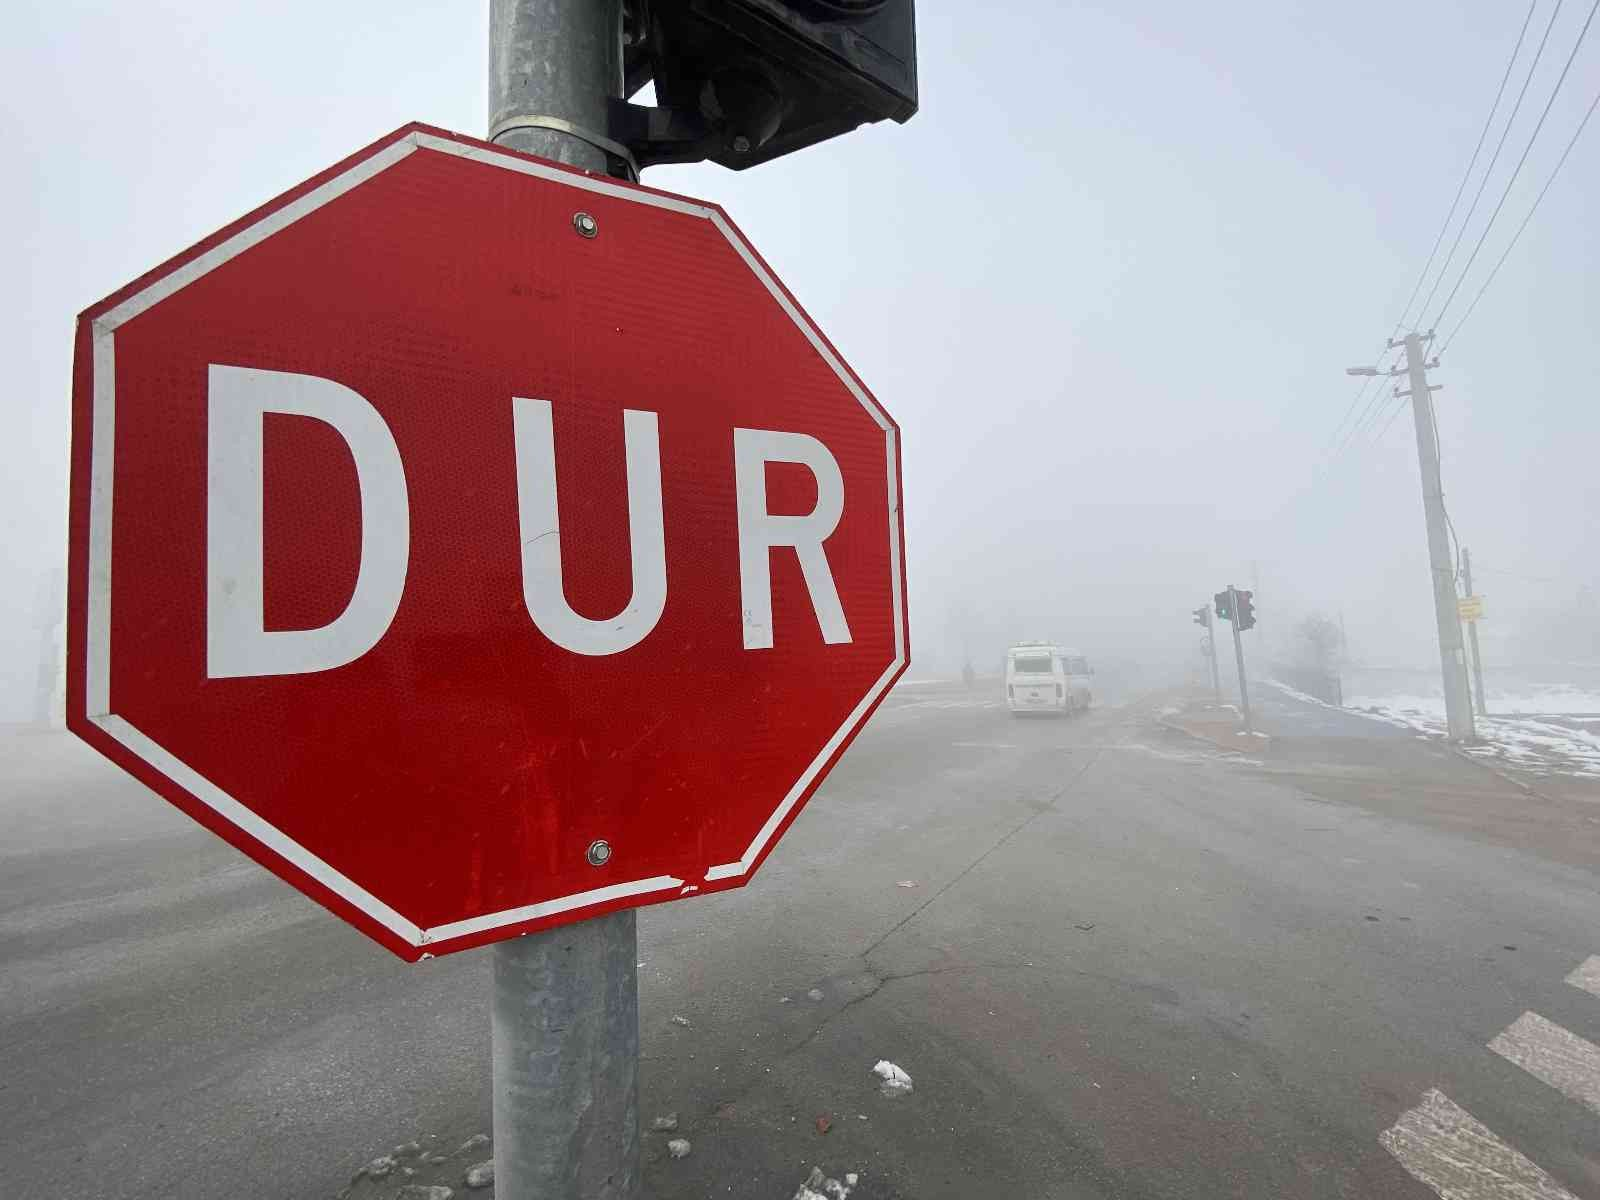dur: (64, 121, 913, 937)
minibus: (983, 611, 1140, 737)
